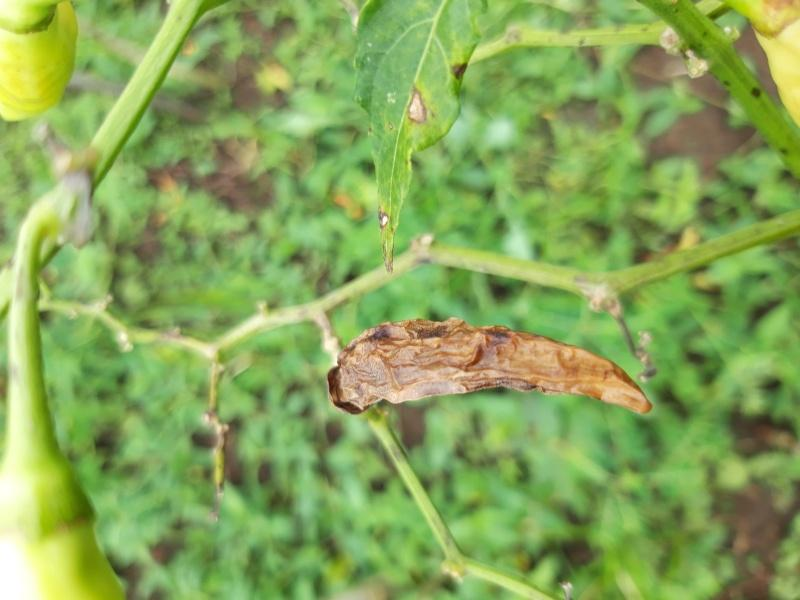antraknosa: (338, 318, 656, 416)
cabai_normal: (1, 1, 77, 122)
